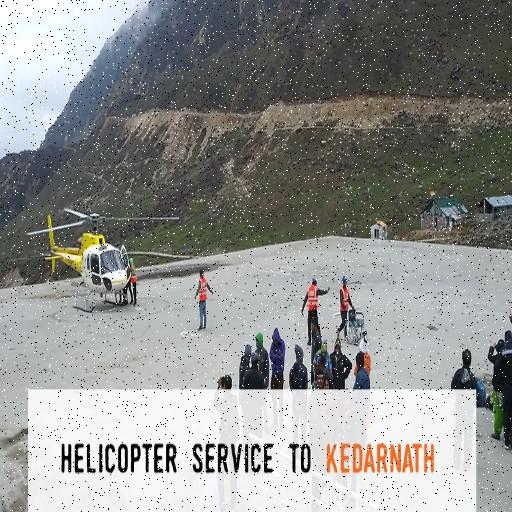helicopter: (23, 181, 194, 318)
